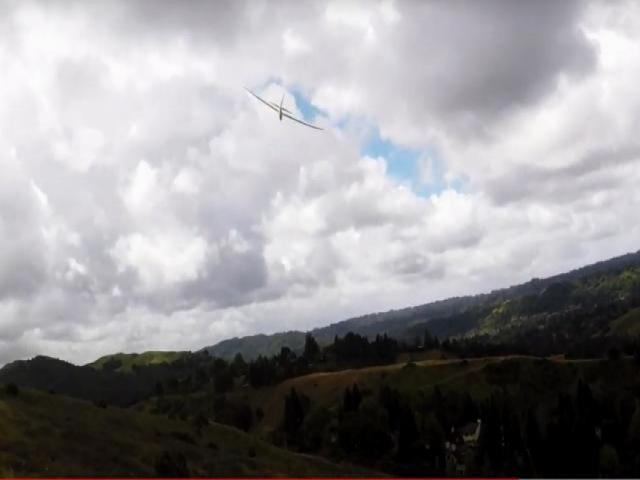iha: (247, 84, 326, 137)
